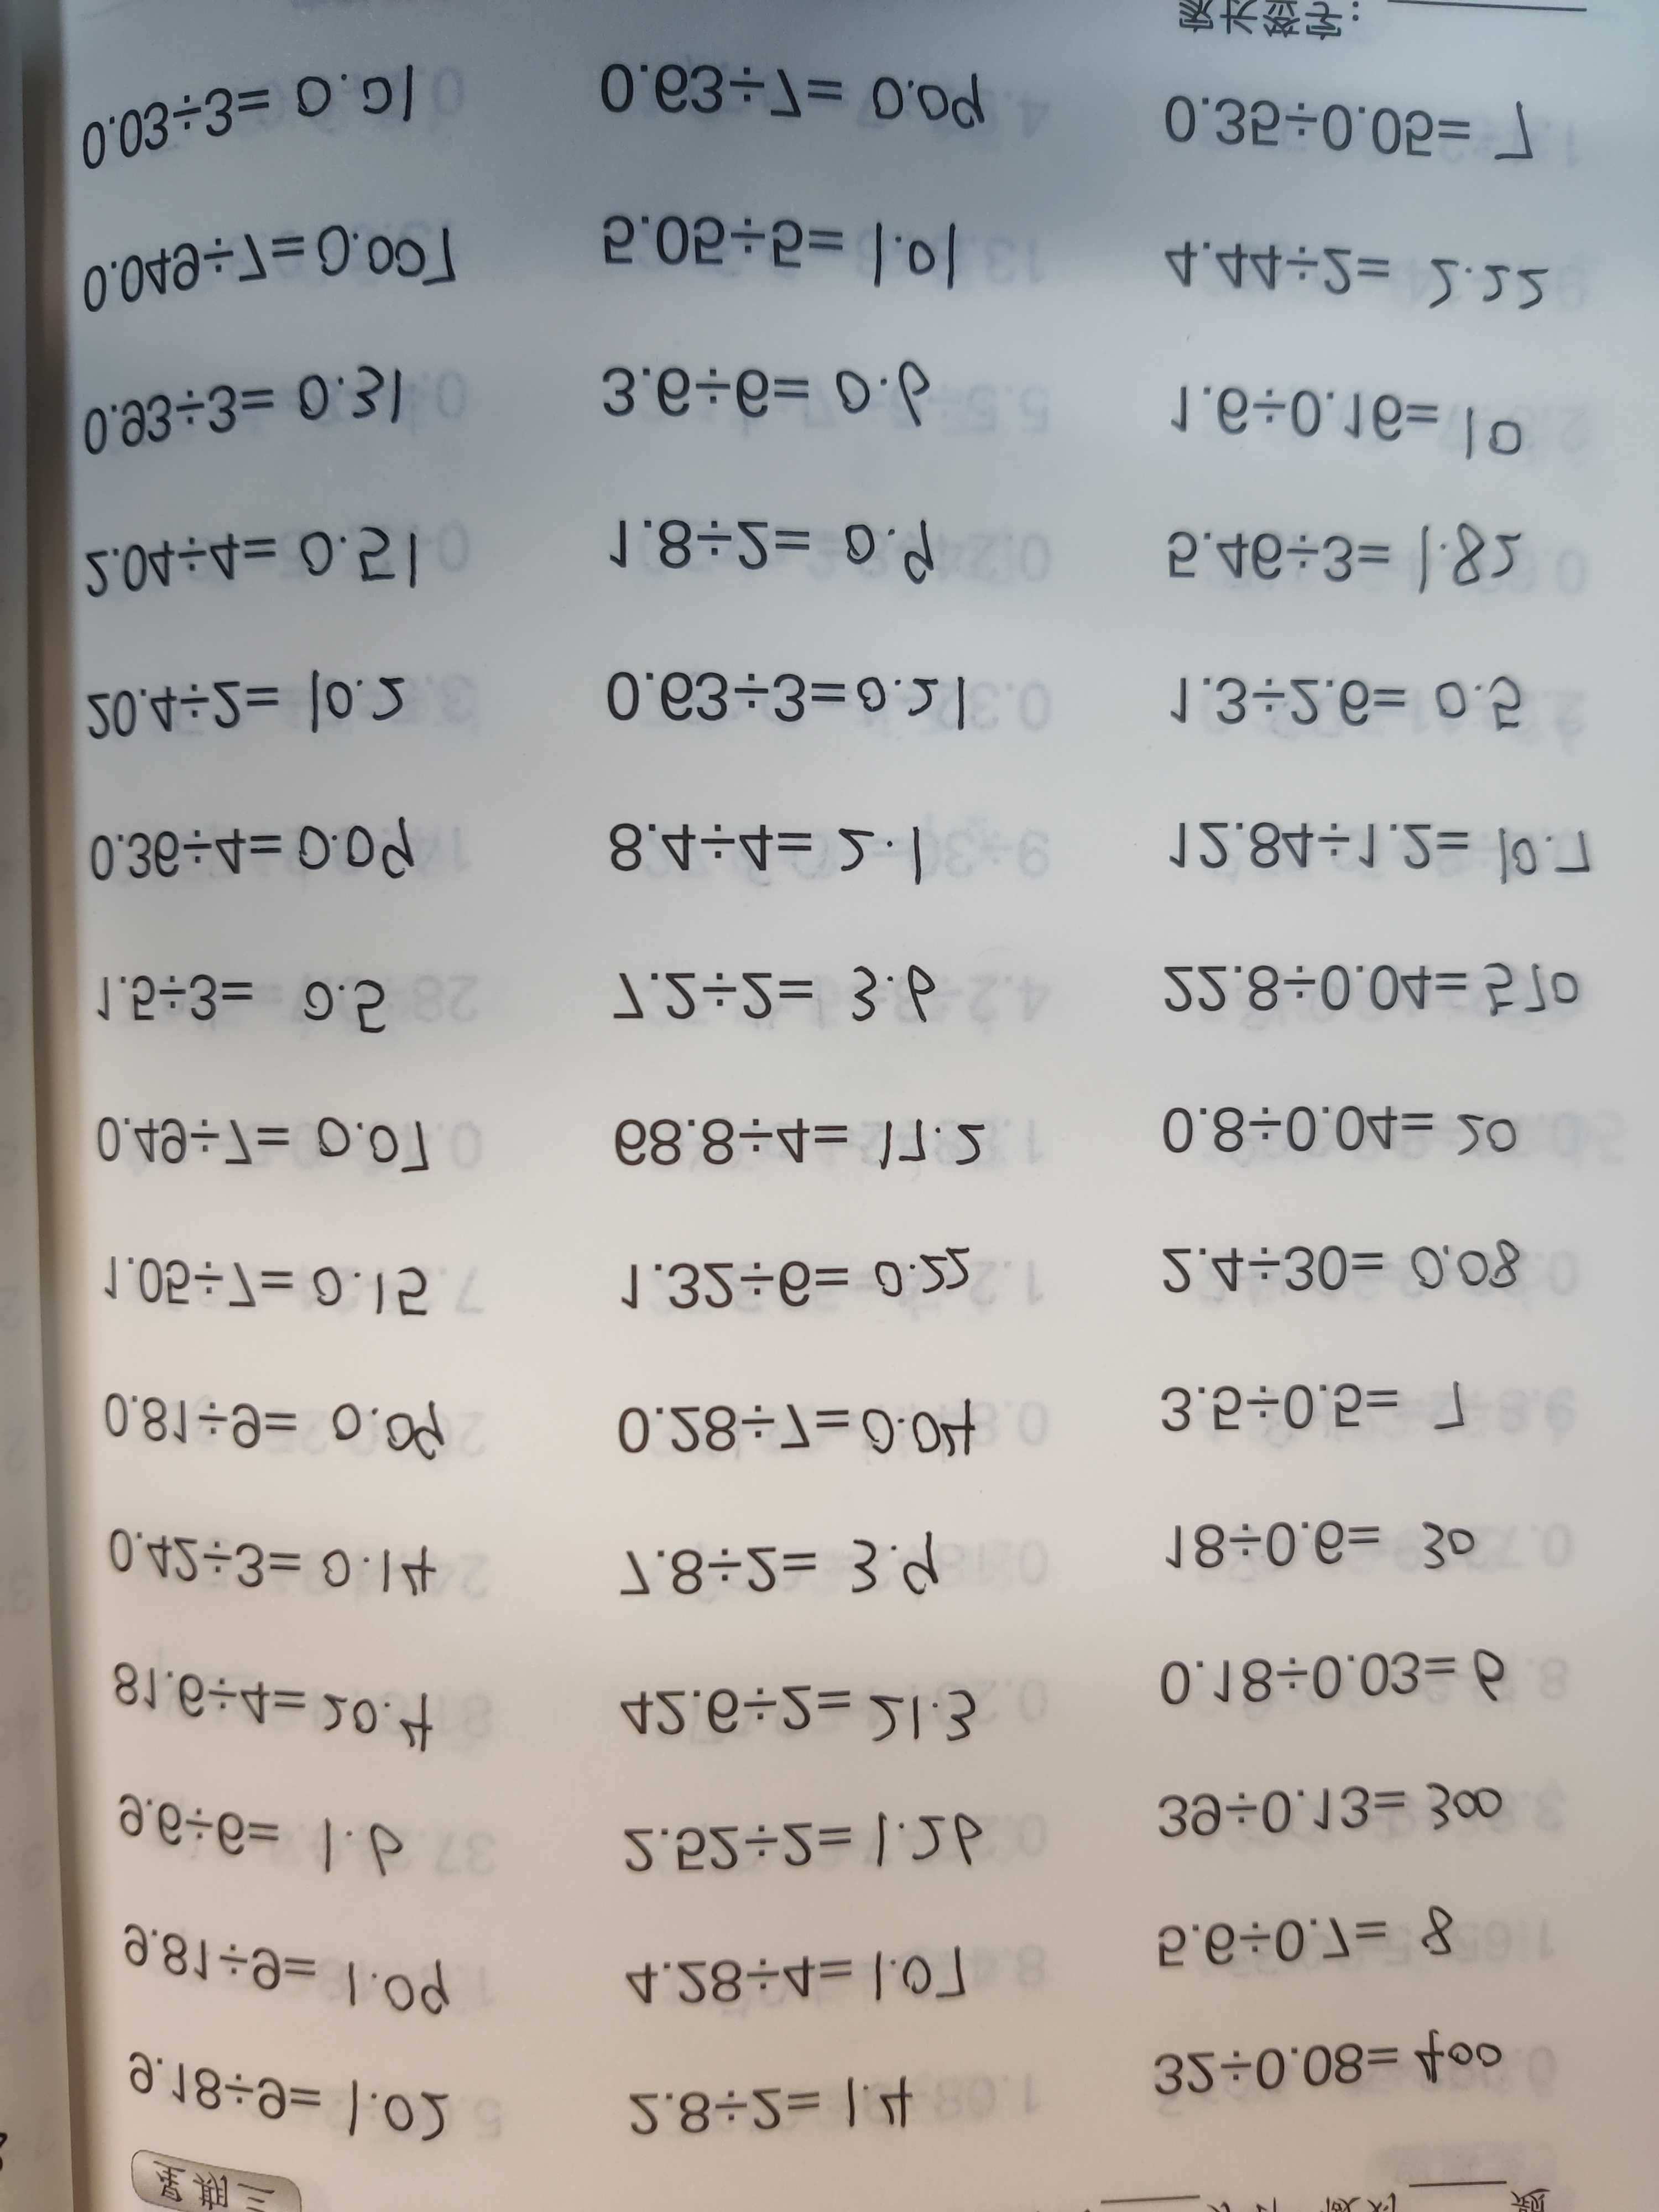equation: (68, 40, 444, 172), (63, 207, 471, 327), (582, 37, 1004, 150), (63, 348, 416, 474), (68, 507, 436, 624), (592, 334, 939, 455), (1152, 813, 1610, 902), (586, 190, 974, 294), (1155, 221, 1556, 322), (78, 646, 436, 759), (1150, 503, 1539, 606), (592, 1094, 1002, 1190), (1143, 2010, 1523, 2113), (1138, 80, 1542, 176), (598, 639, 986, 738), (120, 2041, 465, 2151), (615, 1794, 990, 1895), (1148, 946, 1586, 1031), (118, 1912, 464, 2020), (603, 1226, 978, 1325), (619, 1663, 986, 1764), (75, 1092, 439, 1193), (622, 1919, 974, 2024), (1161, 655, 1537, 752), (1134, 1082, 1528, 1174), (605, 495, 950, 599), (1148, 380, 1530, 474), (105, 1655, 441, 1761), (1138, 1757, 1511, 1853), (606, 1372, 983, 1467), (1145, 1625, 1521, 1717), (1134, 1226, 1539, 1310), (73, 803, 439, 895), (75, 946, 420, 1043), (98, 1376, 455, 1470), (612, 1519, 953, 1616), (94, 1512, 444, 1606), (1138, 1364, 1478, 1458), (606, 949, 941, 1043), (1141, 1890, 1478, 1982), (592, 803, 948, 885), (612, 2054, 920, 2148), (106, 1789, 423, 1872), (92, 1249, 444, 1322), (1155, 1510, 1485, 1587)
